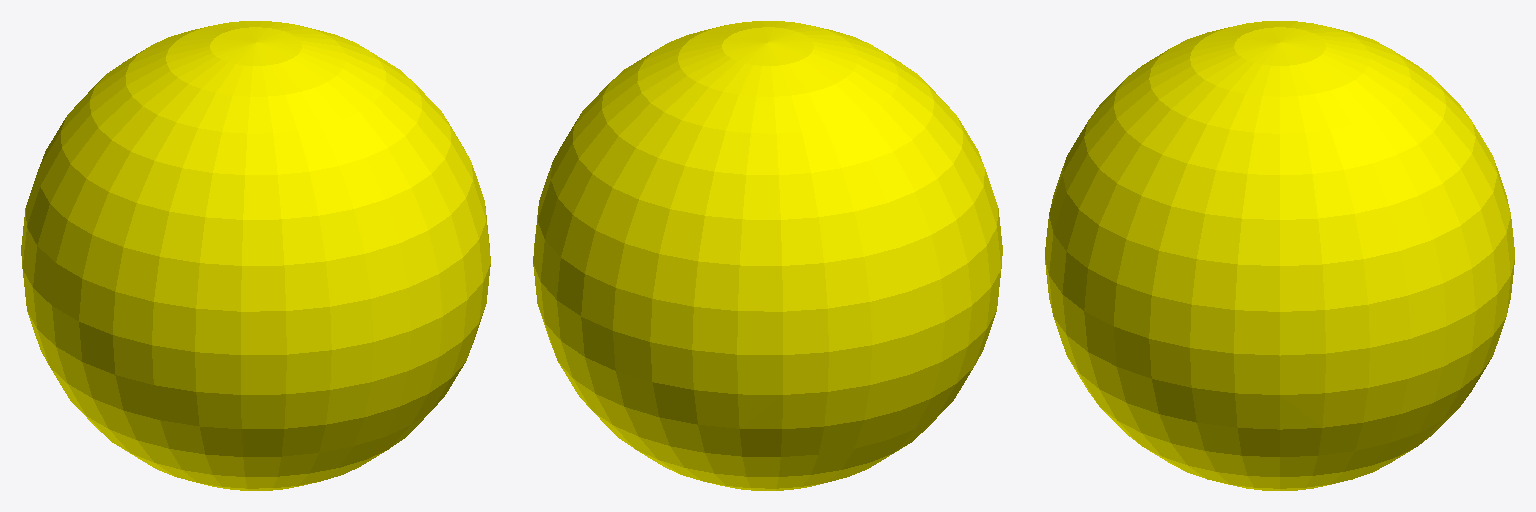
3 views of the same model, side by side, from view 1: azimuth 30°, elevation 25°; view 2: azimuth 150°, elevation 25°; view 3: azimuth 270°, elevation 25° (orthographic).
Visible parts, largest first — view 1: Sphere; view 2: Sphere; view 3: Sphere.
Boxes of the visible parts, x1=… form: Sphere: x1=21, y1=21, x2=490, y2=490; Sphere: x1=533, y1=21, x2=1002, y2=490; Sphere: x1=1045, y1=21, x2=1514, y2=490.
Size of the model in its own units: 0.4 by 0.4 by 0.4.
1 materials, 1 textured.